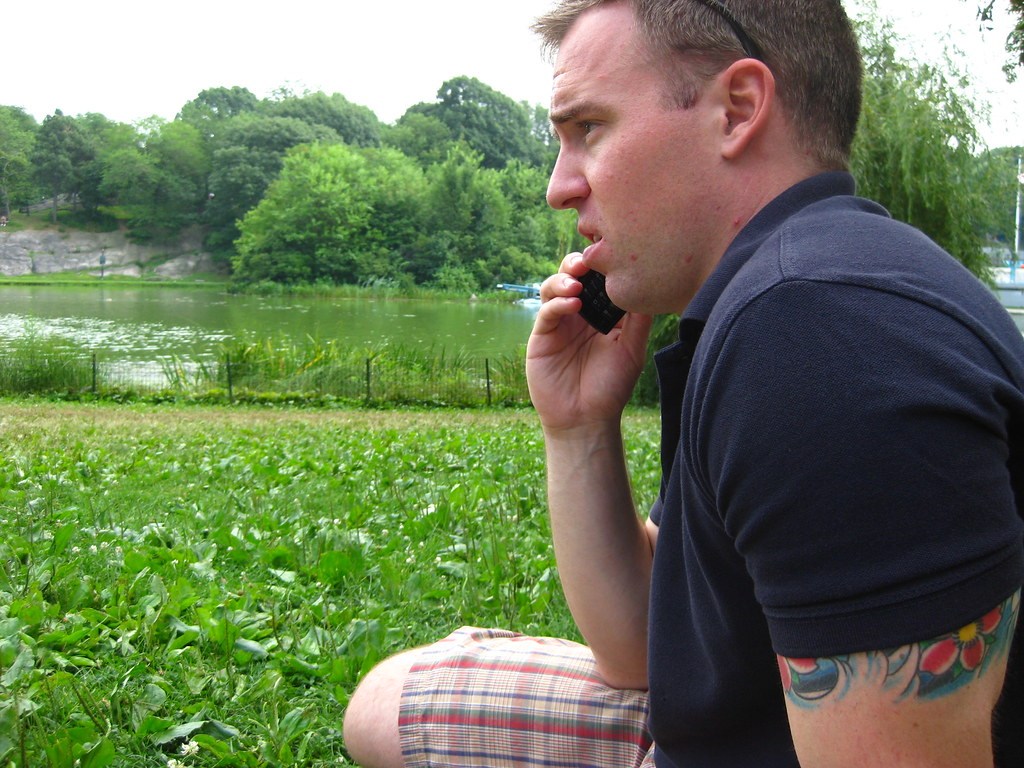phone: (526, 253, 637, 395)
talk: (507, 44, 679, 477)
